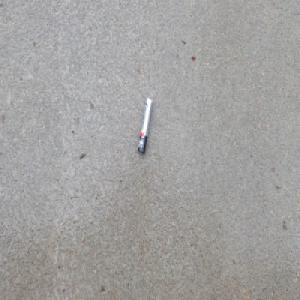Battery: (137, 96, 153, 155)
